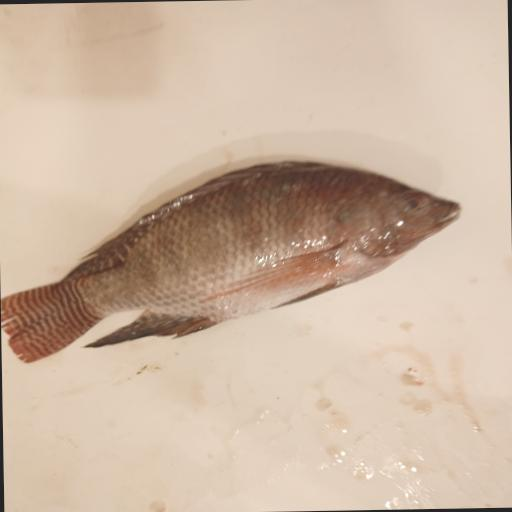Tilapia: (0, 157, 465, 365)
